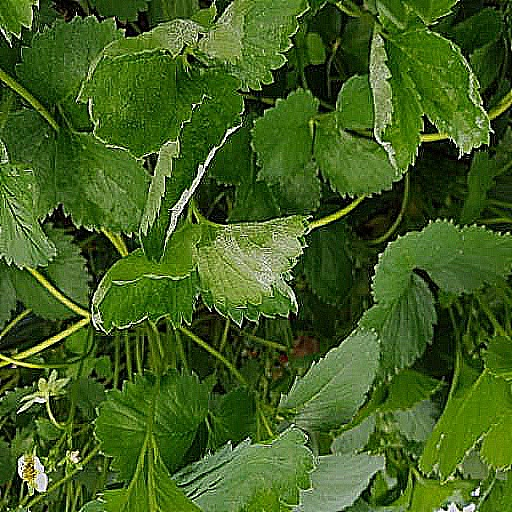Powdery Mildew Leaf: (137, 245, 246, 447), (75, 352, 211, 494), (194, 183, 314, 298), (391, 354, 495, 486), (89, 177, 203, 289), (189, 419, 311, 511), (368, 337, 427, 493)
